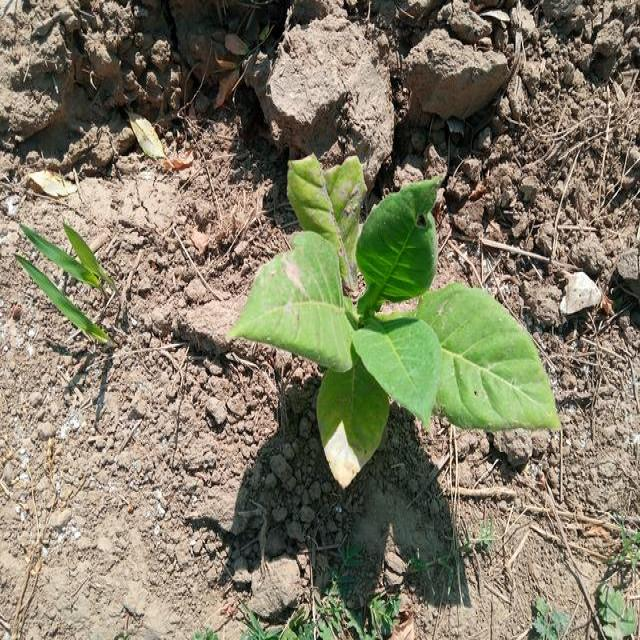crop: (262, 148, 548, 482)
